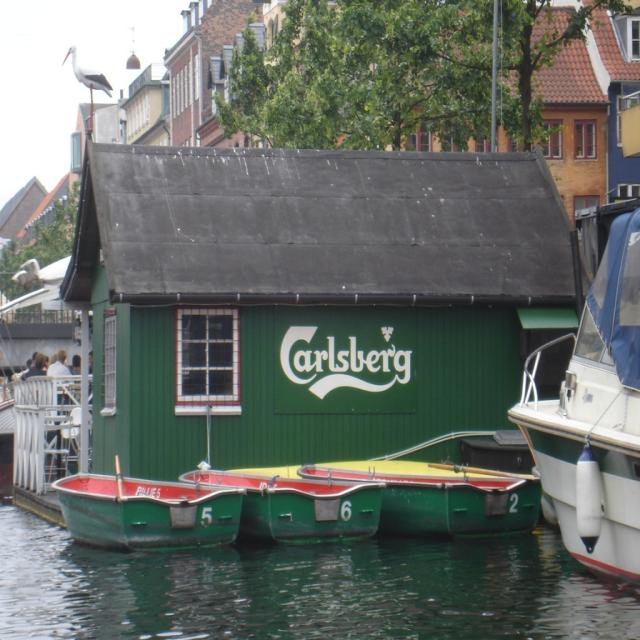carlsberg: (275, 317, 423, 410)
